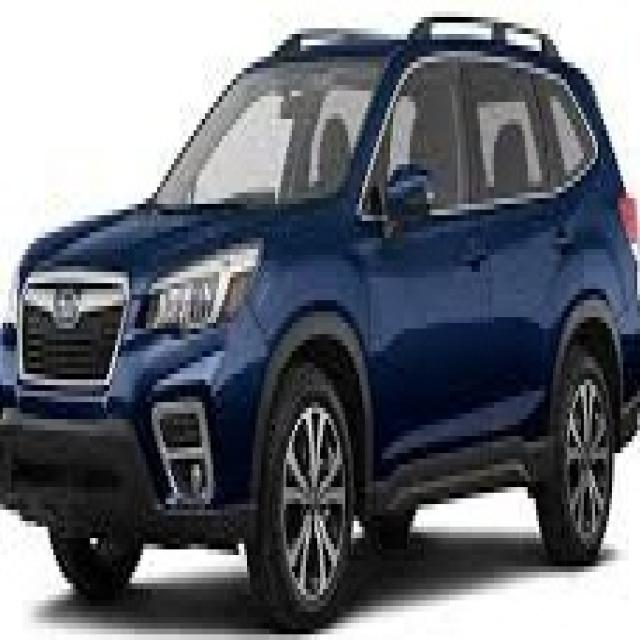blue: (2, 11, 640, 628)
